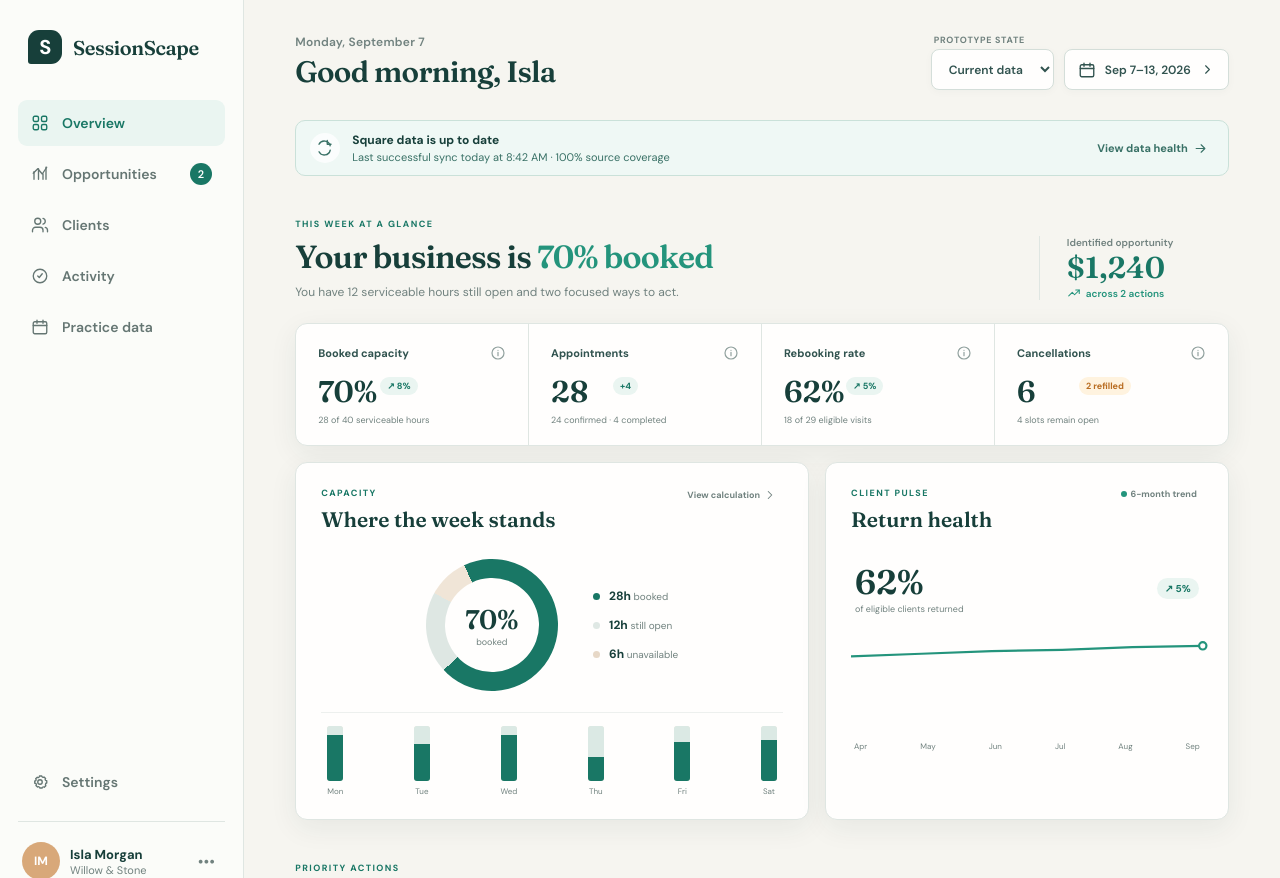
Test: moves the practice ledger by whole local weeks and returns to today
Click the link "Practice data". click: (92, 327)
box: [31,318,153,336]
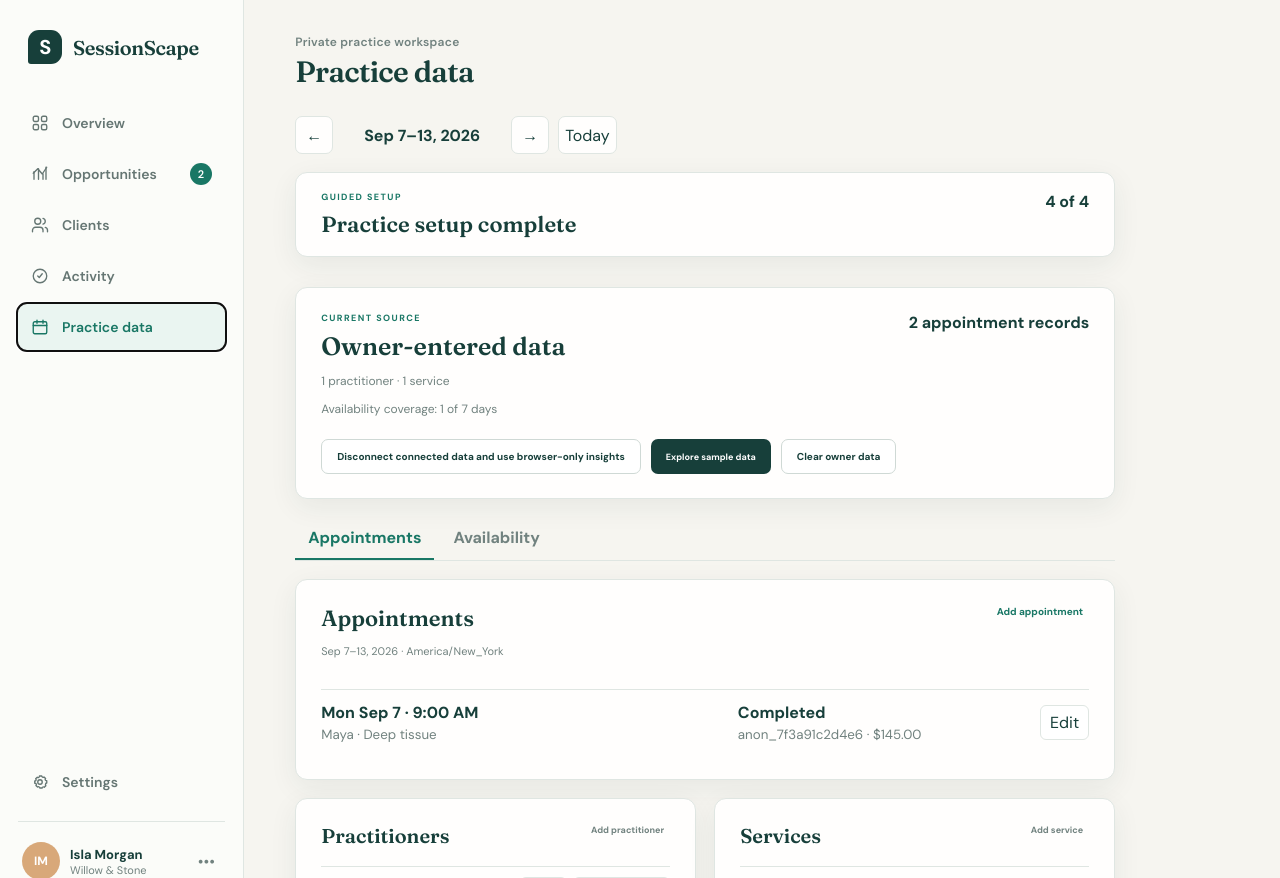
Now the text "Sep 7–13, 2026" is shown, box [364,124,480,146]
Now the button with aria-label "Edit appointment Mon Sep 7" is shown, box [1040,705,1089,740]
Click the button named "Next week". click: (530, 135)
box: [511,116,549,154]
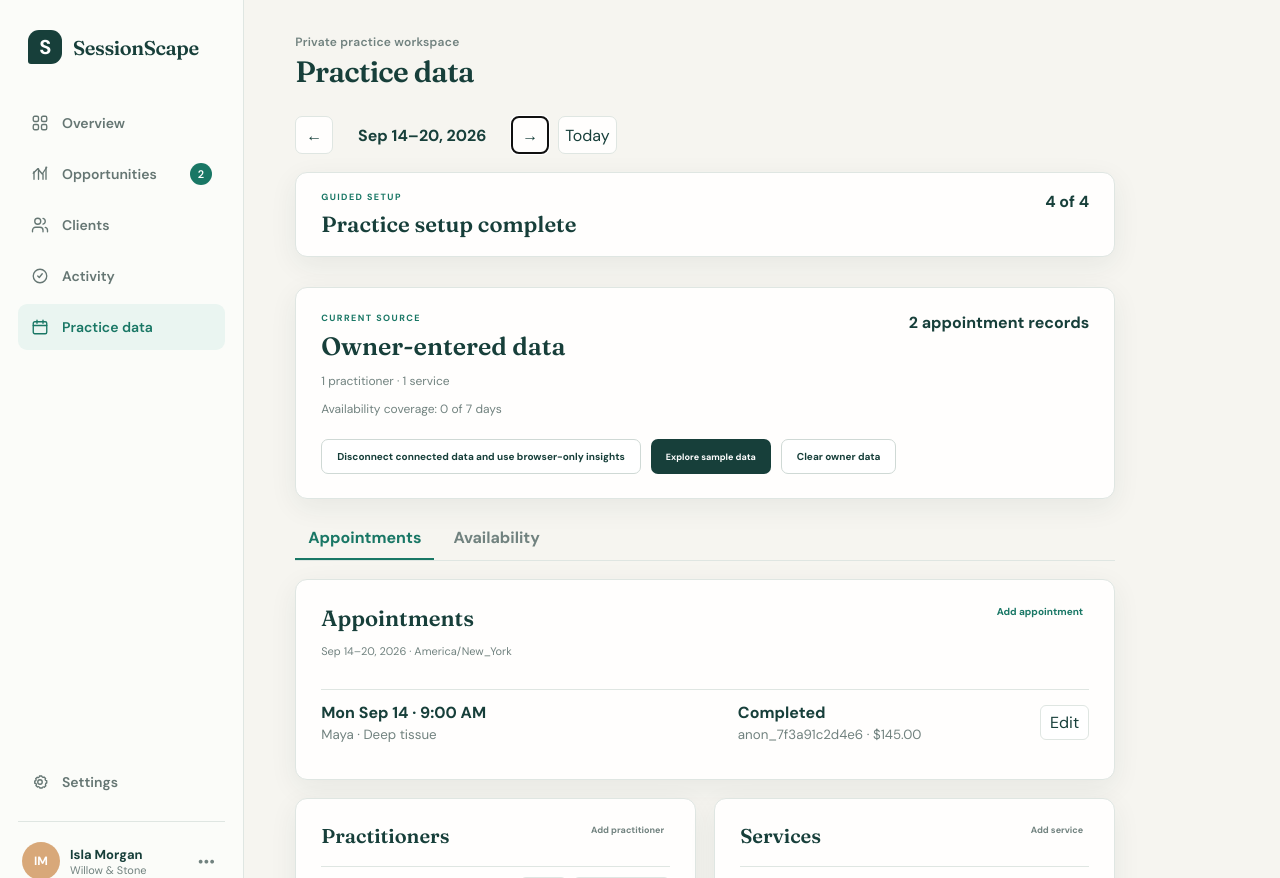
Expected: the button with aria-label "Edit appointment Mon Sep 14" is shown, [1040,705,1089,740]
Now the text "Sep 14–20, 2026" is shown, box [358,124,486,146]
Click the button named "Previous week". click: (314, 135)
box: [295,116,333,154]
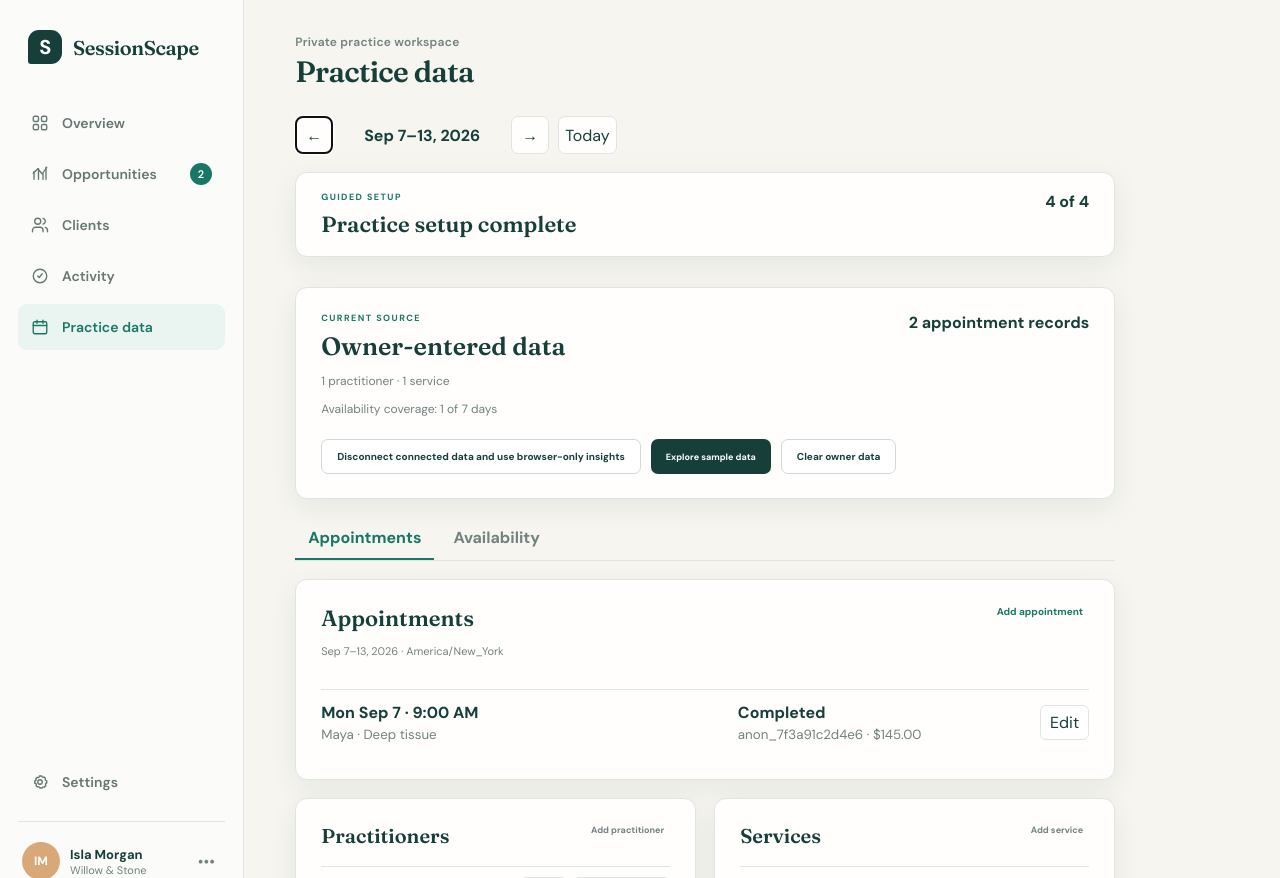
Click the button named "Previous week". click: (314, 135)
box: [295,116,333,154]
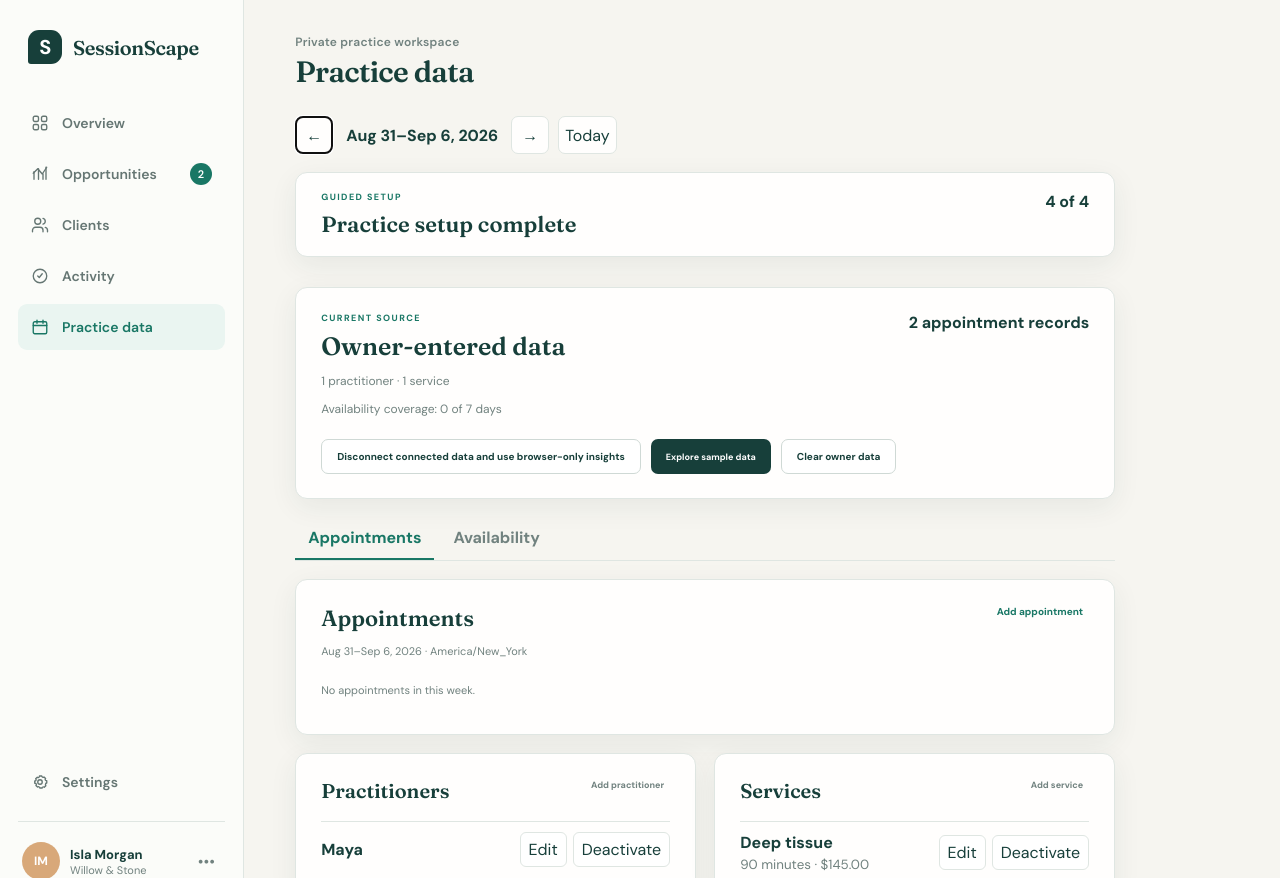
Now the text "Aug 31–Sep 6, 2026" is shown, box [342,124,502,146]
Click the button "Today". click: (587, 135)
box: [558,116,617,154]
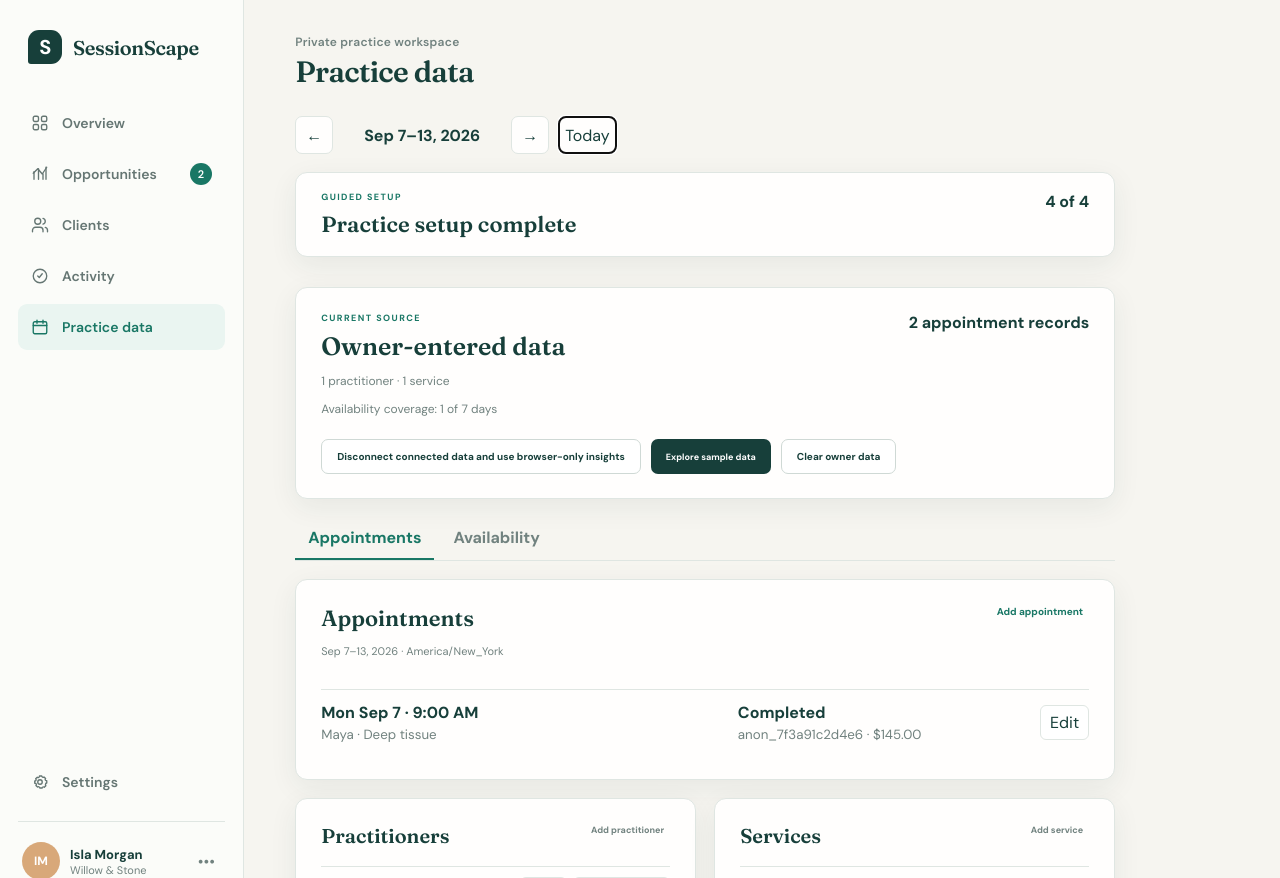
Now the text "Sep 7–13, 2026" is shown, box [364,124,480,146]
Now the button with aria-label "Edit appointment Mon Sep 7" is shown, box [1040,705,1089,740]
